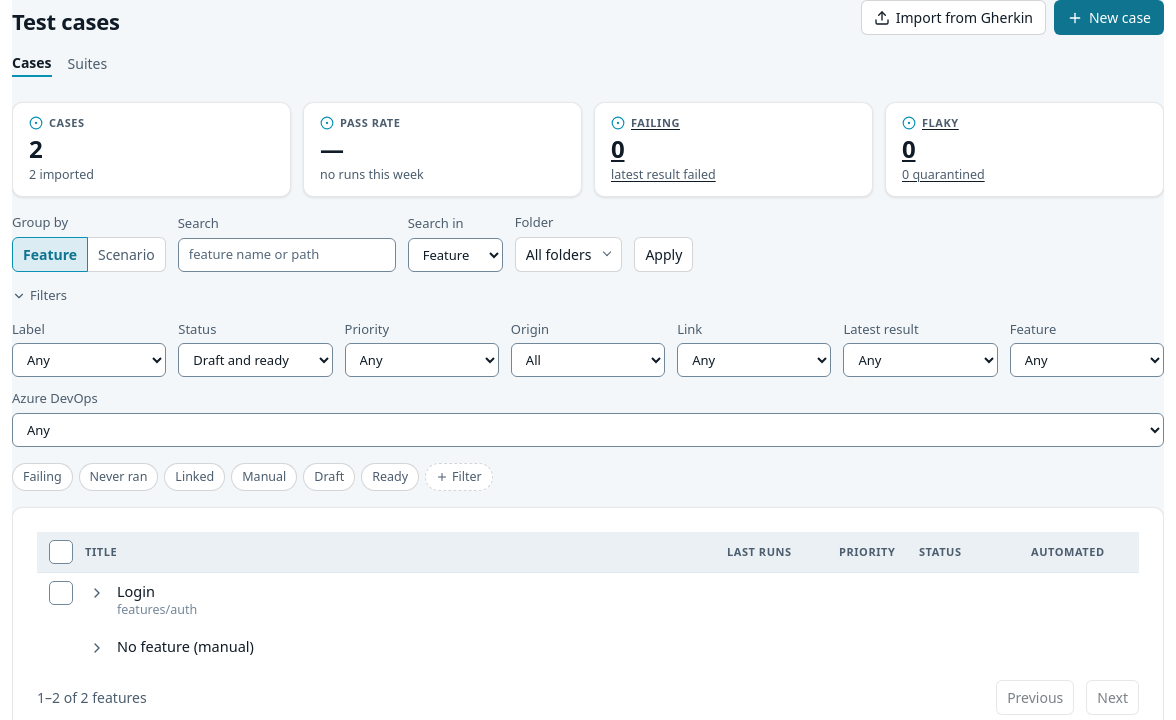
Test case: both views use one fixed column layout, so columns keep their place across pages and views
Expected: the link "Login" is shown, [117,581,155,601]
Click the button "Scenario" at coordinates (126, 254), box [87,237,166,272]
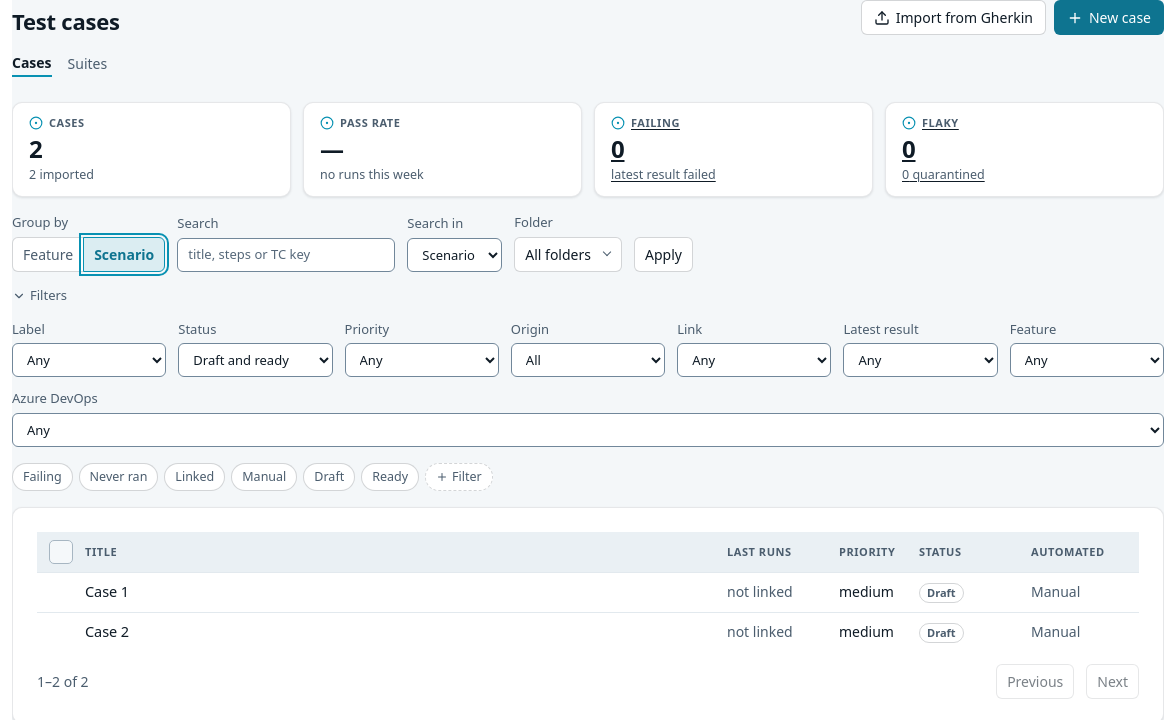
Expected: the link "Case 1" is shown, [85,582,129,602]
